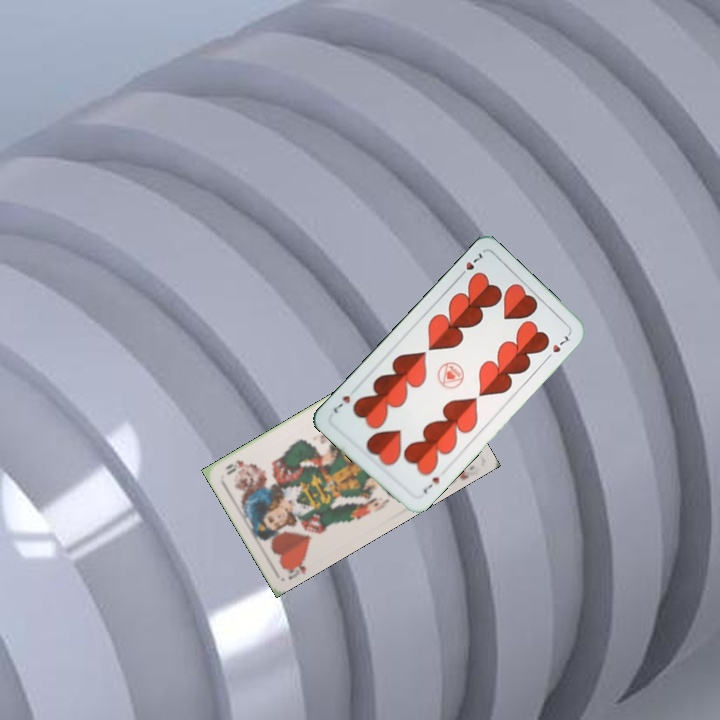H7: (454, 249, 485, 281), (419, 473, 442, 497)
HO: (279, 552, 310, 582)
